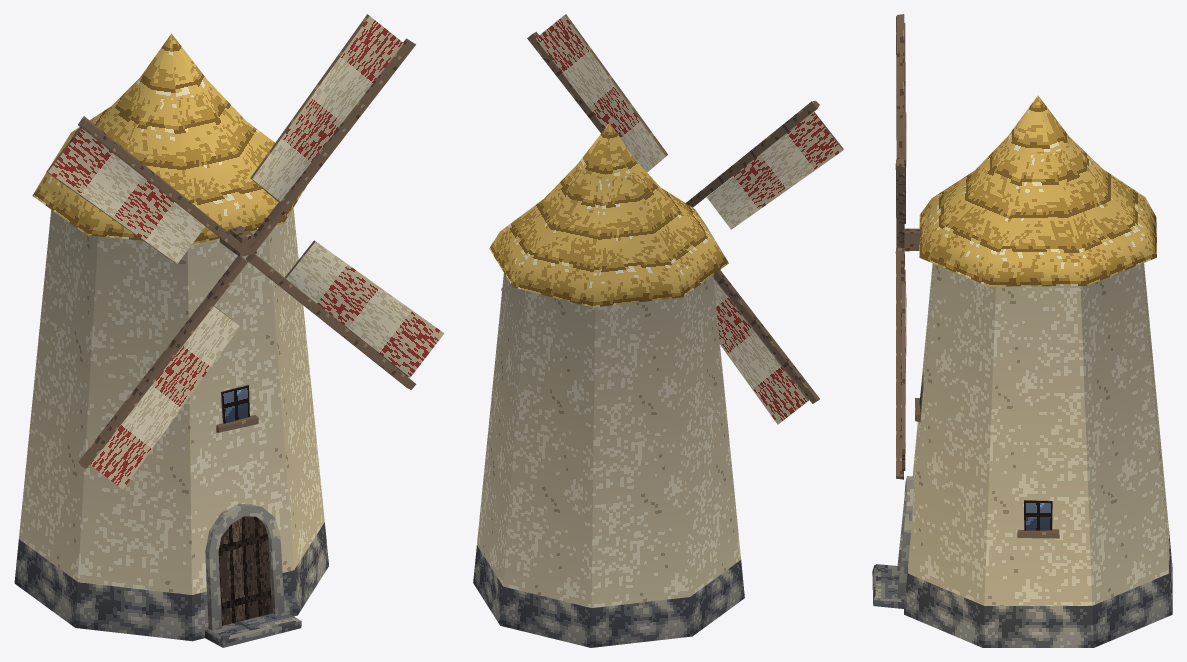
File: vlg.mill__turned.glb
3 views of the same model, side by side, from view 1: azimuth 30°, elevation 25°; view 2: azimuth 150°, elevation 25°; view 3: azimuth 270°, elevation 25° (orthographic). The views are drawn at different scales.
Parts seen in each view (by area): view 1: kit_walls, kit_fittings, kit_roof, kit_frame; view 2: kit_walls, kit_roof, kit_fittings, kit_frame; view 3: kit_walls, kit_roof, kit_fittings, kit_frame.
Boxes of the visible parts, box(x1,y1,x2,y2) form: kit_walls: box(14, 208, 328, 641); kit_fittings: box(46, 14, 444, 647); kit_roof: box(32, 33, 305, 244); kit_frame: box(78, 38, 416, 468); kit_walls: box(473, 273, 744, 647); kit_roof: box(489, 123, 728, 307); kit_fittings: box(501, 14, 843, 424); kit_frame: box(527, 31, 819, 403); kit_walls: box(904, 263, 1172, 647); kit_roof: box(919, 95, 1156, 286); kit_fittings: box(872, 23, 1059, 608); kit_frame: box(895, 14, 922, 479).
Size of the model in its own units: 7.5 by 10.56 by 5.37.
Materials: 9 (9 with a texture image).
